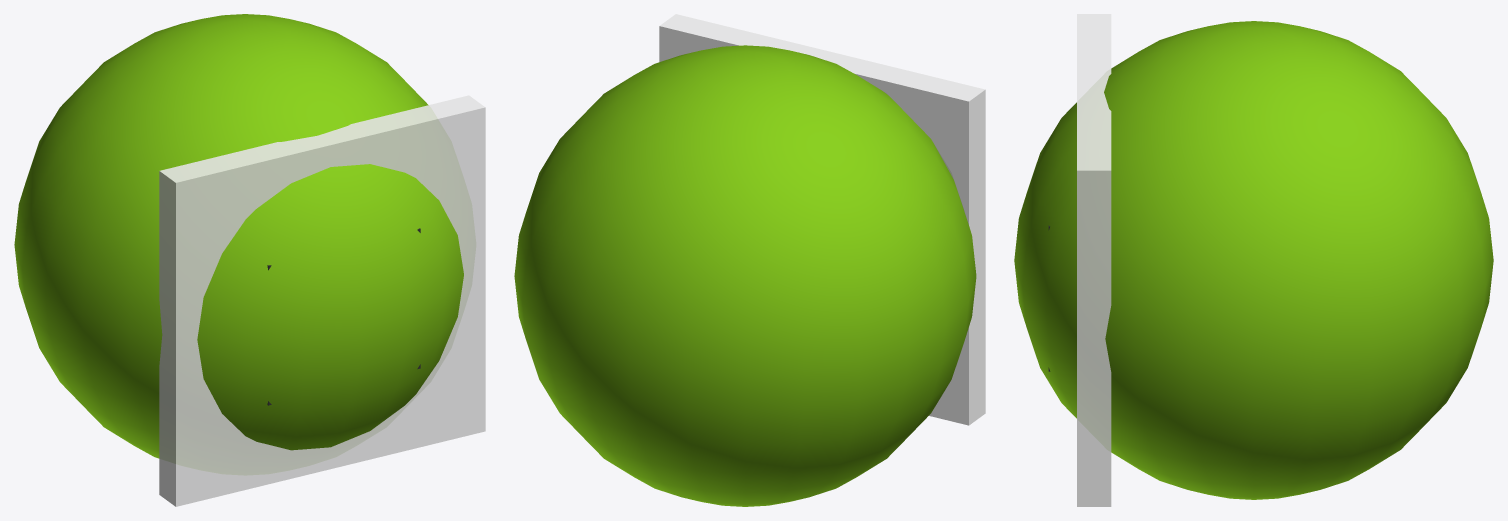
The model's file is fridge-electrical.glb.
3 renders of one model, left to right at view 1: azimuth 30°, elevation 25°; view 2: azimuth 150°, elevation 25°; view 3: azimuth 270°, elevation 25°, orthographic. The views are drawn at different scales.
Visible parts, largest first — view 1: fridge-electrical; view 2: fridge-electrical; view 3: fridge-electrical.
Boxes of the visible parts, left/top/right/bottom form: fridge-electrical: left=14, top=14, right=485, bottom=506; fridge-electrical: left=514, top=14, right=985, bottom=506; fridge-electrical: left=1014, top=14, right=1493, bottom=506.
Size of the model in its own units: 0.84 by 0.84 by 0.84.
